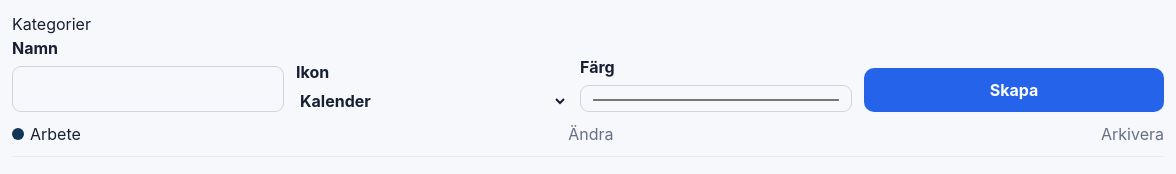
CalendarCategoryManager › kan välja ikon och börja redigera kategori
Click the button "Ändra". click: (591, 134)
box: [568, 122, 614, 146]
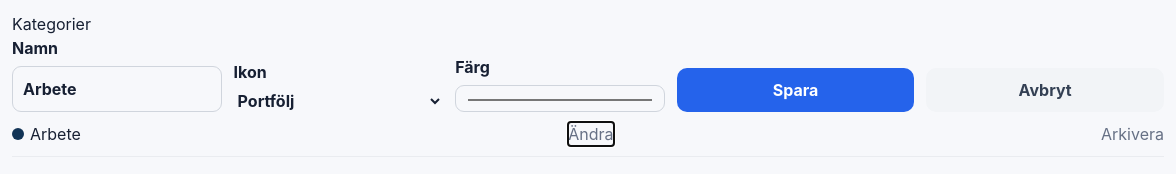
Check: the field labelled "Namn" holds "Arbete", box [12, 66, 222, 112]
Check: the dropdown labelled "Ikon" shows "Portfölj", box [234, 90, 443, 112]
Check: the button "Spara" is shown, box [677, 68, 914, 112]
